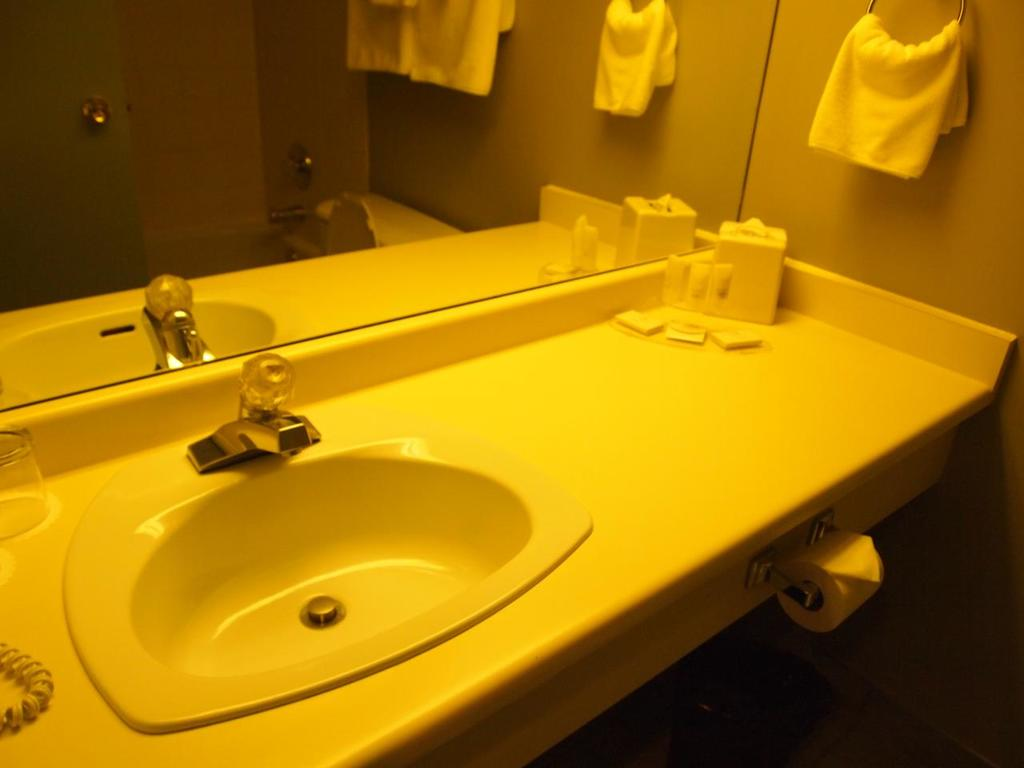tap: (183, 405, 310, 485)
